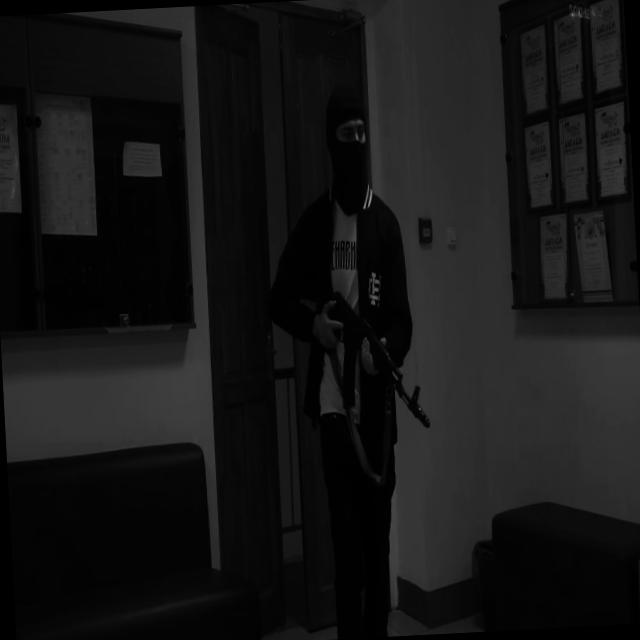gun: (297, 257, 431, 435)
person with a gun: (257, 82, 442, 640)
